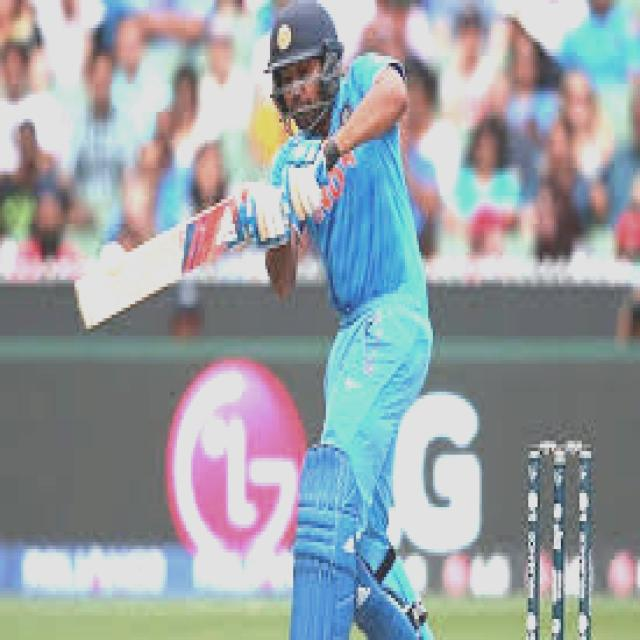toe: (66, 265, 105, 344)
